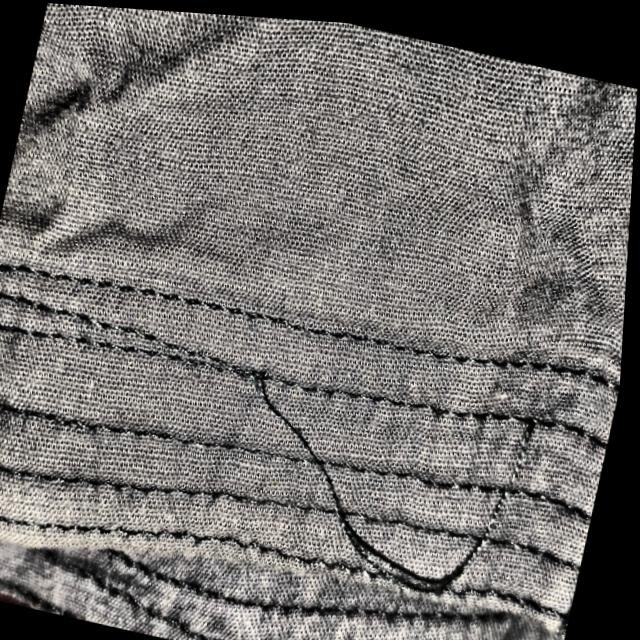Stitch: (189, 300, 556, 624)
